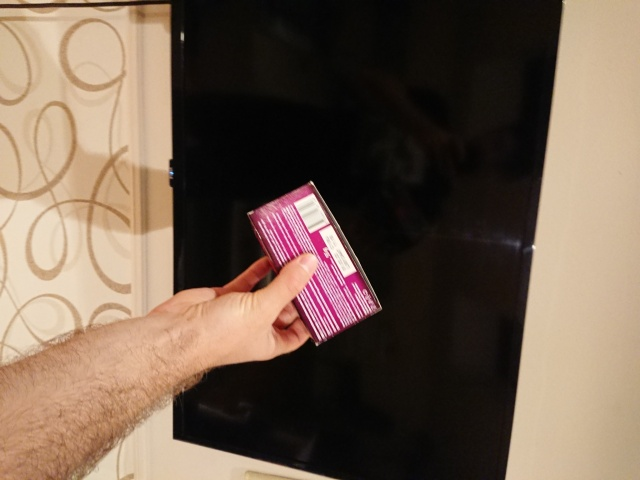Franck Black Currant Tea 60g: (243, 177, 385, 349)
